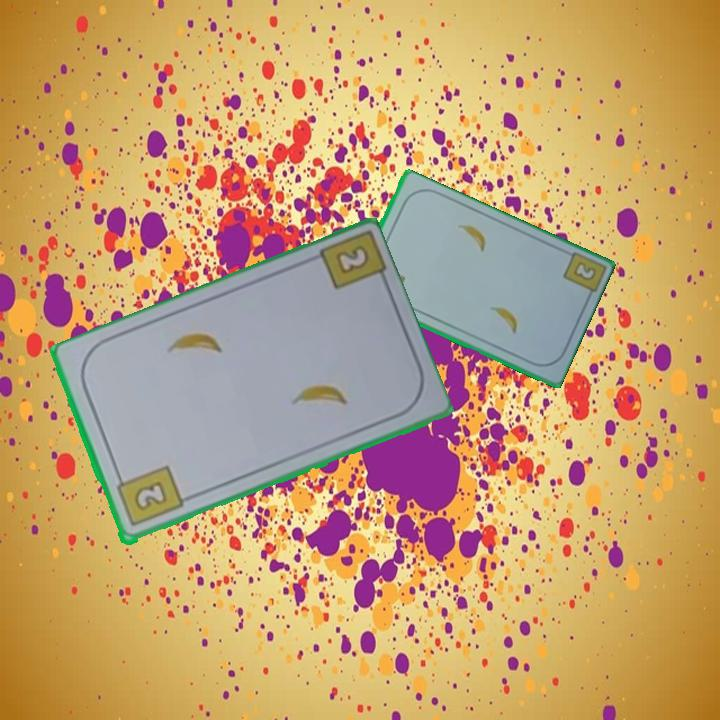2b: (112, 462, 186, 530), (331, 241, 372, 278), (569, 258, 599, 284)
